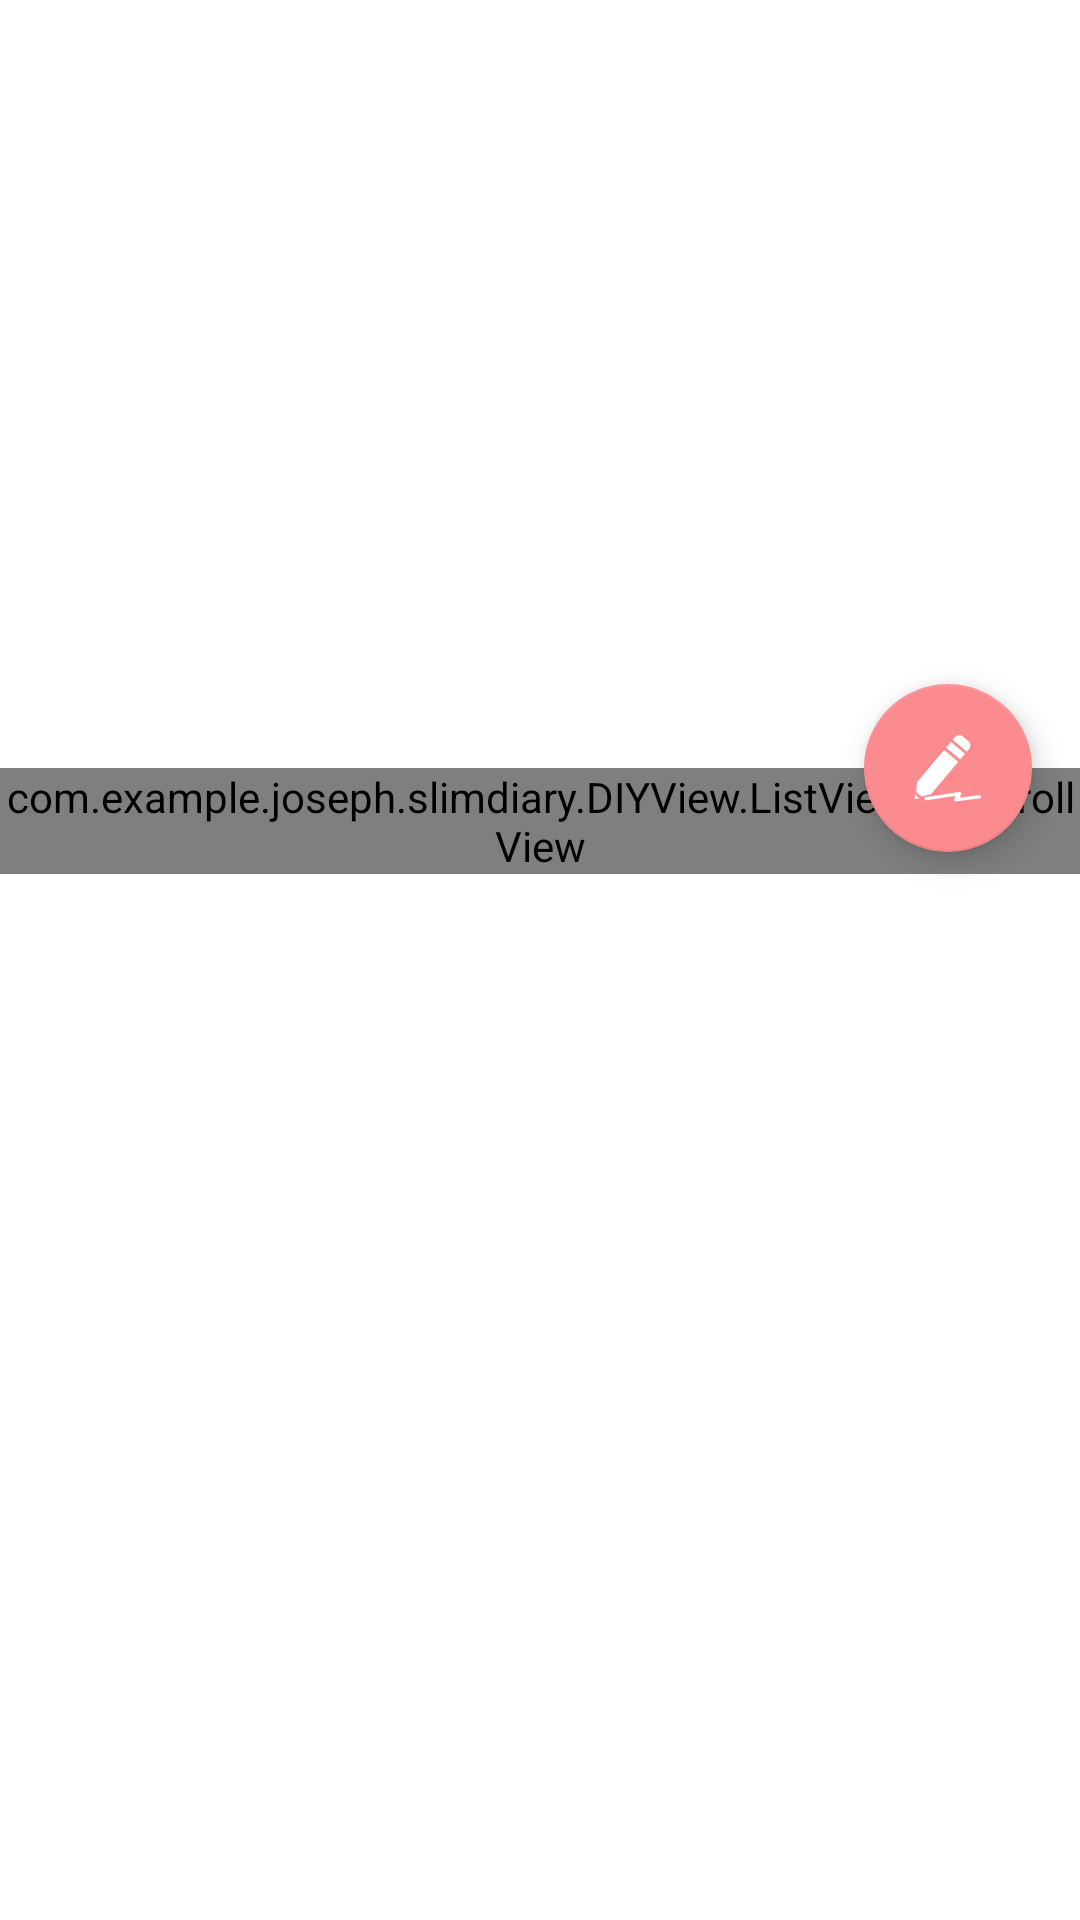

Where to tap for icons on this 1080x1920 app screen, as point (x, y):
add diary: point (948, 768)
